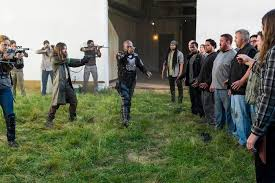Gun: (7, 44, 34, 61), (81, 56, 99, 65), (83, 45, 108, 51), (127, 44, 136, 53)
